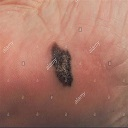Melanoma: (51, 41, 76, 87)
